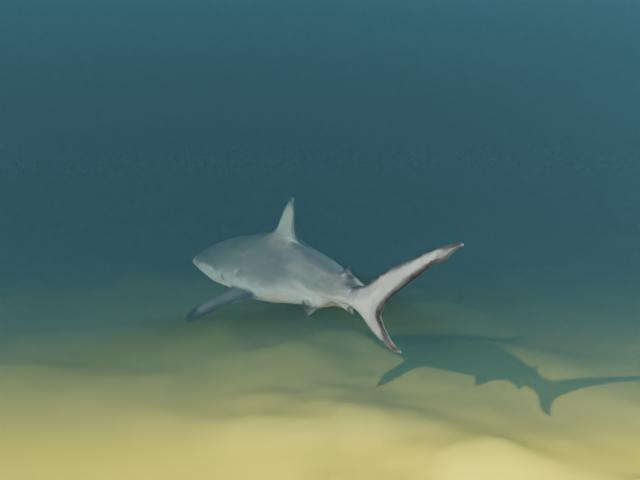Carribean Shark.001: (186, 197, 463, 354)
